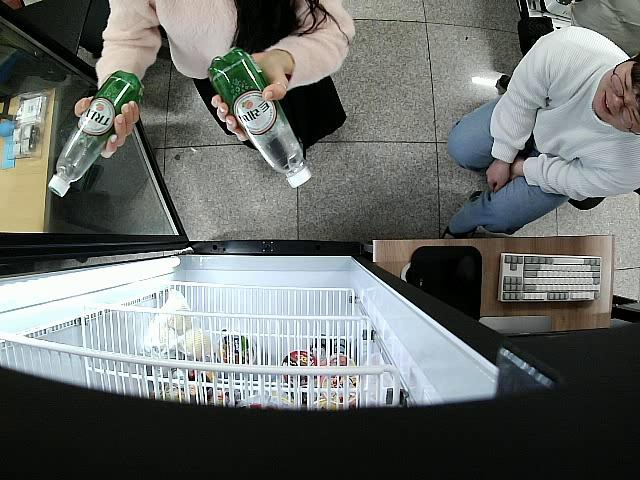00_hand: (212, 52, 289, 144), (72, 95, 139, 160)
18_trevi: (208, 45, 314, 188), (49, 69, 143, 200)
